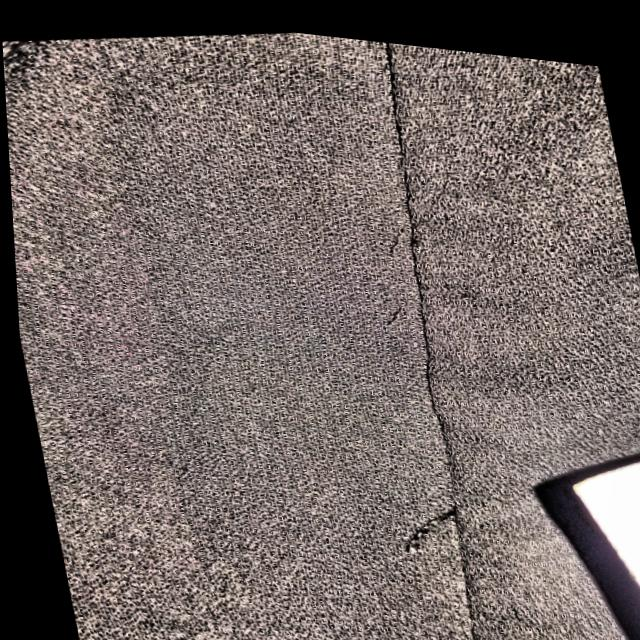Stitch: (328, 162, 487, 352), (371, 452, 495, 583)
